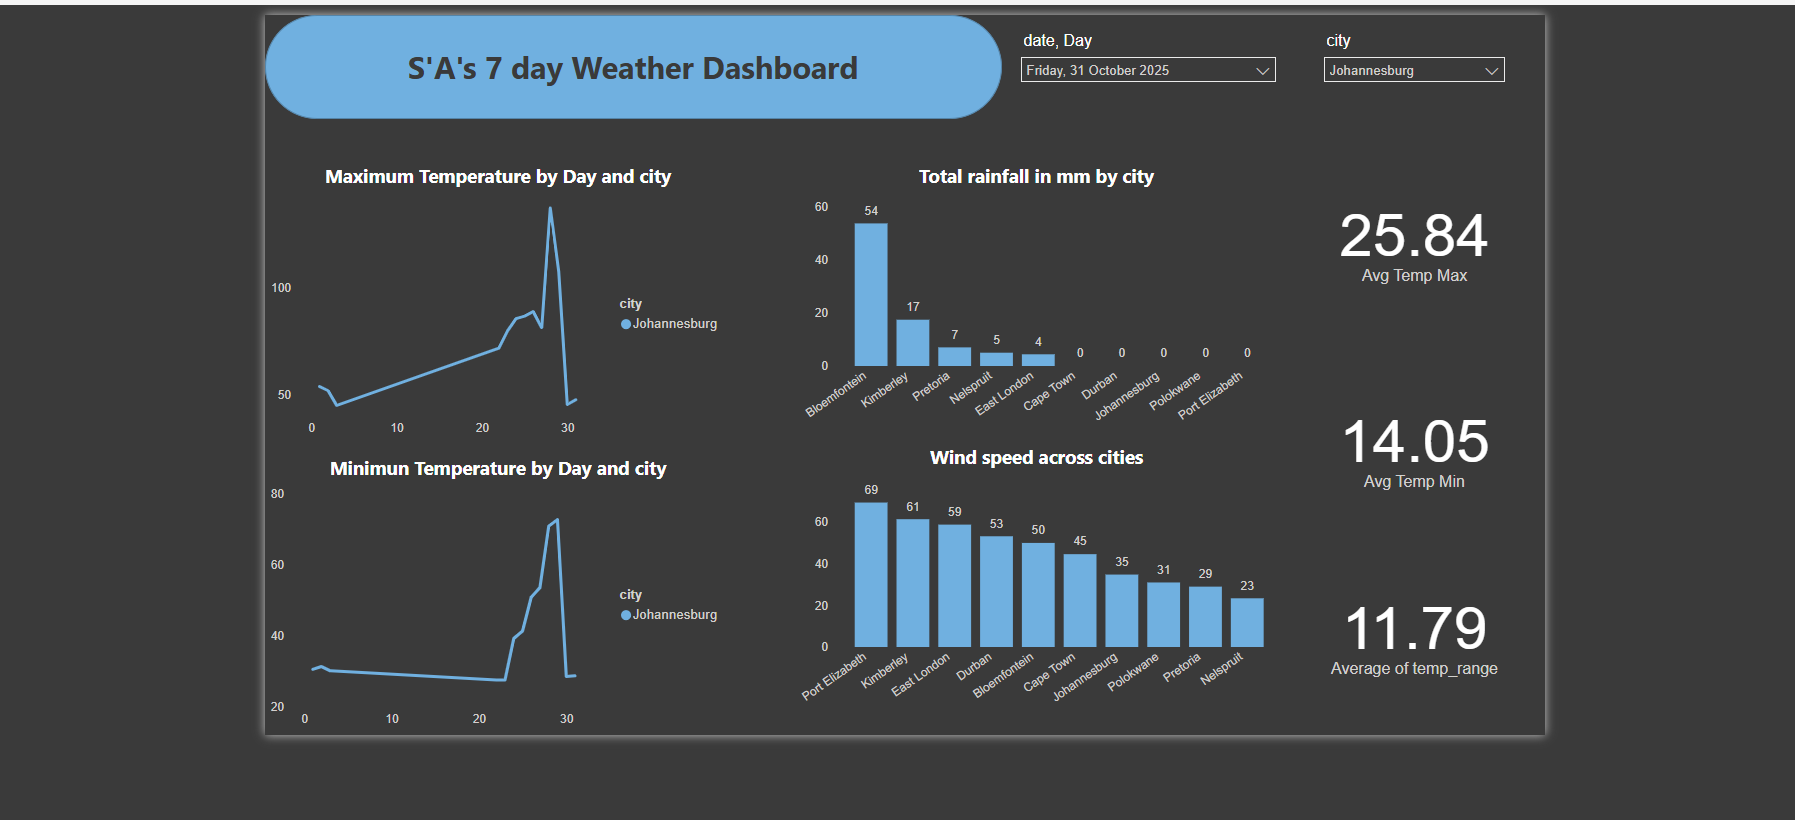

Layout of this report page (visuals, bound fields, positions):
{"tool":"powerbi","page":{"name":"SA 7 day Weather Dashboard","canvas":[1280,720],"ordinal":0},"visuals":[{"type":"lineChart","title":"Maximum Temperature by Day and city","fields":{"Category":["weather_data daily_weather.date.Variation.Date Hierarchy.Day"],"Y":["Sum(weather_data daily_weather.temp_max)"],"Series":["weather_data daily_weather.city"]},"box":[0,148,467,281],"z":0},{"type":"lineChart","title":"Minimun Temperature by Day and city","fields":{"Category":["weather_data daily_weather.date.Variation.Date Hierarchy.Day"],"Series":["weather_data daily_weather.city"],"Y":["Sum(weather_data daily_weather.temp_min)"]},"box":[0,440,467,280],"z":1000},{"type":"clusteredColumnChart","title":"Total rainfall in mm by city","fields":{"Category":["weather_data daily_weather.city"],"Y":["Sum(weather_data daily_weather.rainfall_mm)"]},"box":[523,148,498,281],"z":2000},{"type":"clusteredColumnChart","title":"Wind speed across cities","fields":{"Category":["weather_data daily_weather.city"],"Y":["Sum(weather_data daily_weather.wind_max)"]},"box":[523,429,498,281],"z":3000},{"type":"card","fields":{"Values":["weather_data daily_weather.Avg Temp Max"]},"box":[1049,158,201,131],"z":4000},{"type":"card","fields":{"Values":["weather_data daily_weather.Avg Temp Min"]},"box":[1049,370,201,118],"z":5000},{"type":"card","fields":{"Values":["Avg(weather_data daily_weather.temp_range)"]},"box":[1049,552,201,128],"z":6000},{"type":"slicer","fields":{"Values":["weather_data daily_weather.city"]},"box":[1049,12,201,92],"z":7000},{"type":"slicer","fields":{"Values":["weather_data daily_weather.date","weather_data daily_weather.date.Variation.Date Hierarchy.Day"]},"box":[746,12,275,92],"z":8000},{"type":"shape","box":[0,0,737,104],"z":9000}]}

Visuals, with their boxes on the page's 1280x720 design canvas (x1, y1, x2, y2). These are canvas units, not pixel positions in the 1795x820 screenshot, which may show the page scaled, cropped or inside an application window:
"Maximum Temperature by Day and city" lineChart: 0 148 467 429
"Minimun Temperature by Day and city" lineChart: 0 440 467 720
"Total rainfall in mm by city" clusteredColumnChart: 523 148 1021 429
"Wind speed across cities" clusteredColumnChart: 523 429 1021 710
card - weather_data daily_weather.Avg Temp Max: 1049 158 1250 289
card - weather_data daily_weather.Avg Temp Min: 1049 370 1250 488
card - Avg(weather_data daily_weather.temp_range): 1049 552 1250 680
slicer - weather_data daily_weather.city: 1049 12 1250 104
slicer - weather_data daily_weather.date x weather_data daily_weather.date.Variation.Date Hierarchy.Day: 746 12 1021 104
shape: 0 0 737 104
